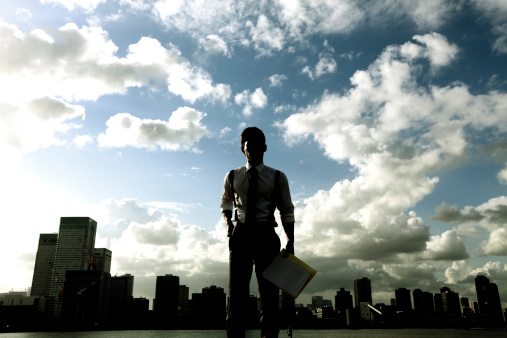em pe: (220, 112, 297, 337)
